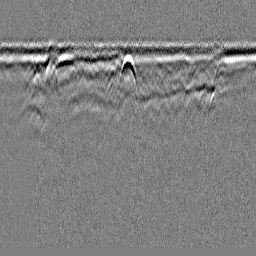cavity: (116, 54, 139, 93)
